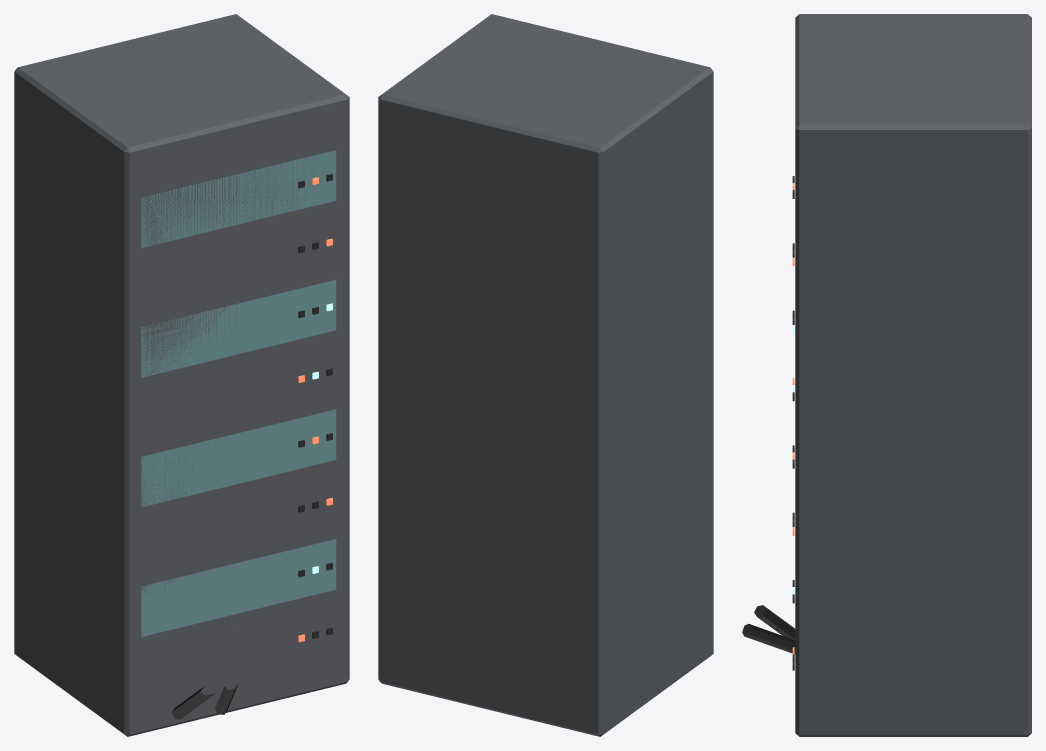
The model's file is comms_rack.glb.
The picture shows the model from 3 angles, left to right: view 1: azimuth 30°, elevation 25°; view 2: azimuth 150°, elevation 25°; view 3: azimuth 270°, elevation 25°; orthographic projection. The views are drawn at different scales.
Parts seen in each view (by area): view 1: comms_rack; view 2: comms_rack; view 3: comms_rack.
Boxes of the visible parts, x1=… form: comms_rack: x1=14, y1=14, x2=349, y2=736; comms_rack: x1=378, y1=14, x2=713, y2=736; comms_rack: x1=742, y1=14, x2=1031, y2=736.
Bounding box in the file's own units: 0.8 × 2 × 0.8578.
